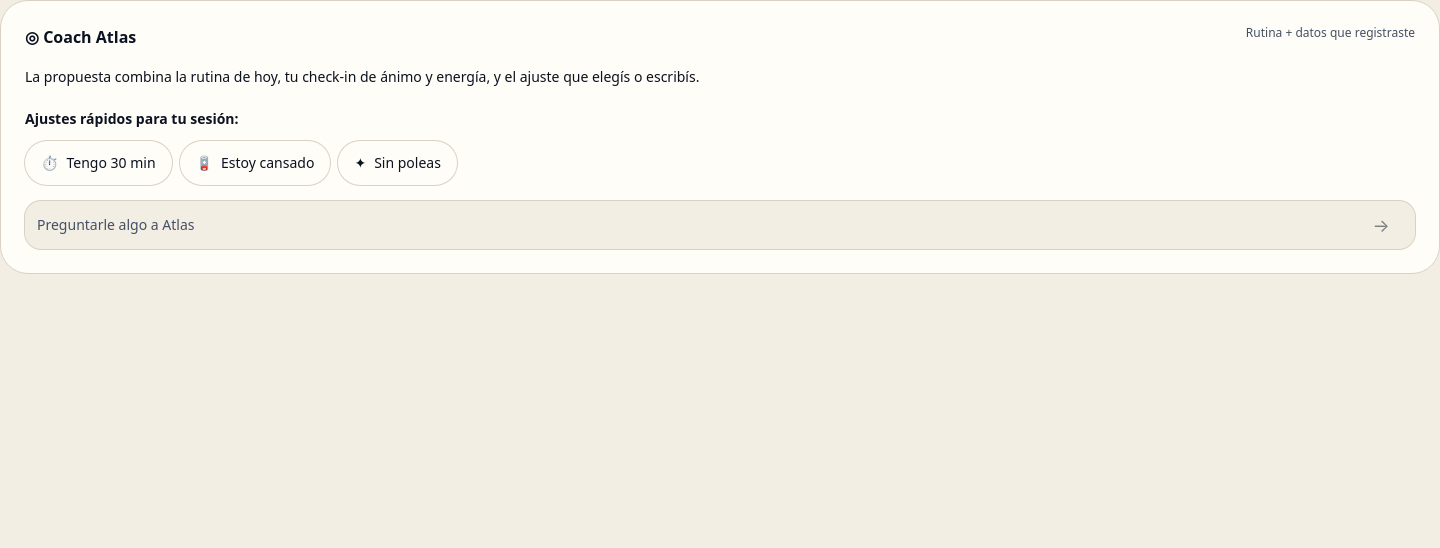
Test: CoachAtlasCard › clears a previous successful preview when the next preview fails
Step 1. Click the button "🪫 Estoy cansado" → (255, 163), box x1=180 y1=141 x2=330 y2=185
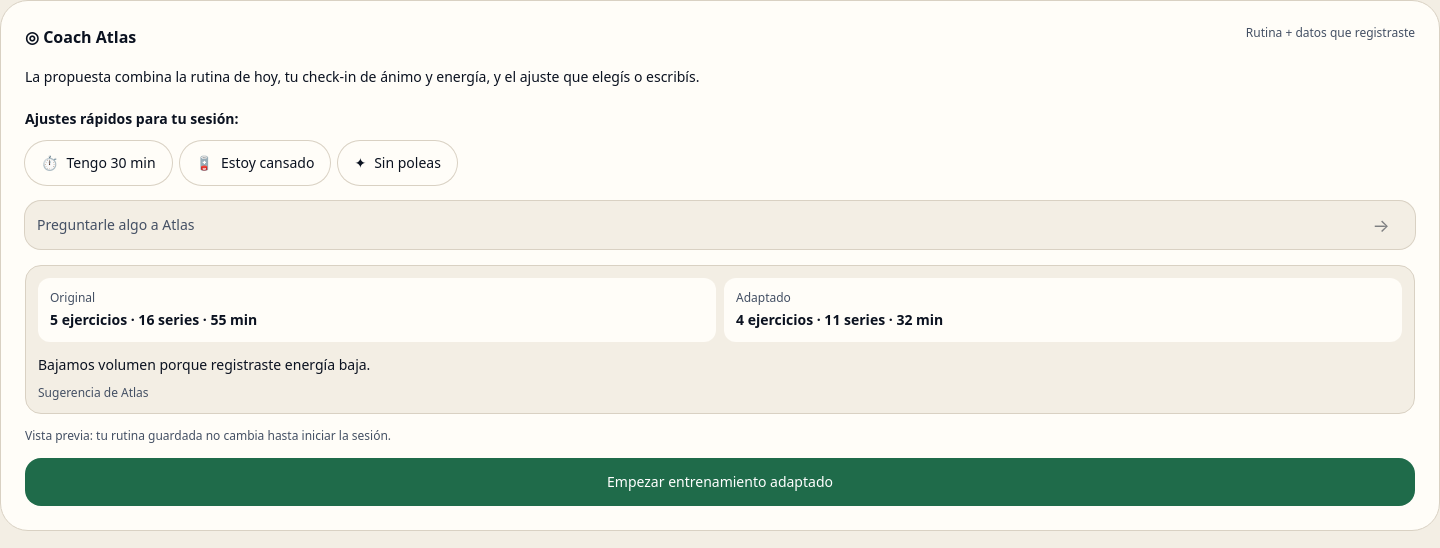
Check: the text "Sugerencia de Atlas" is shown, box x1=38 y1=384 x2=149 y2=401
Step 2. Click the button "✦ Sin poleas" → (398, 163), box x1=338 y1=141 x2=457 y2=185
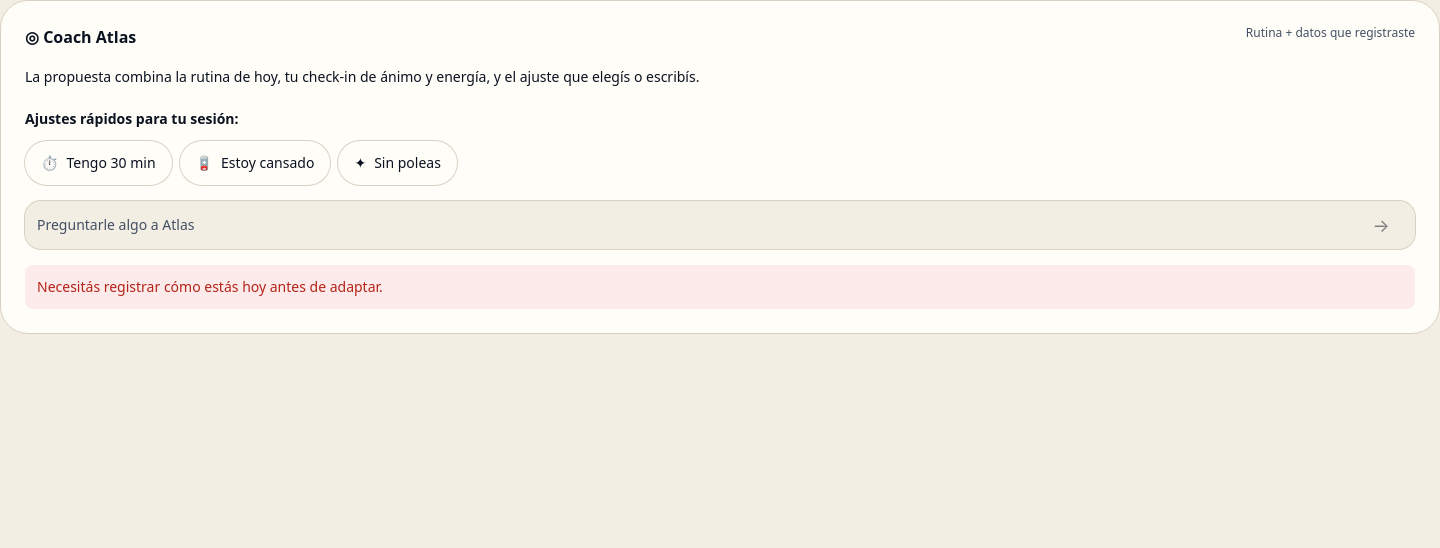
Check: the text "Necesitás registrar cómo estás hoy antes de adaptar." is shown, box x1=37 y1=277 x2=383 y2=296
Check: the text "Sugerencia de Atlas" is gone
Check: the text "4 ejercicios · 11 series · 32 min" is gone
